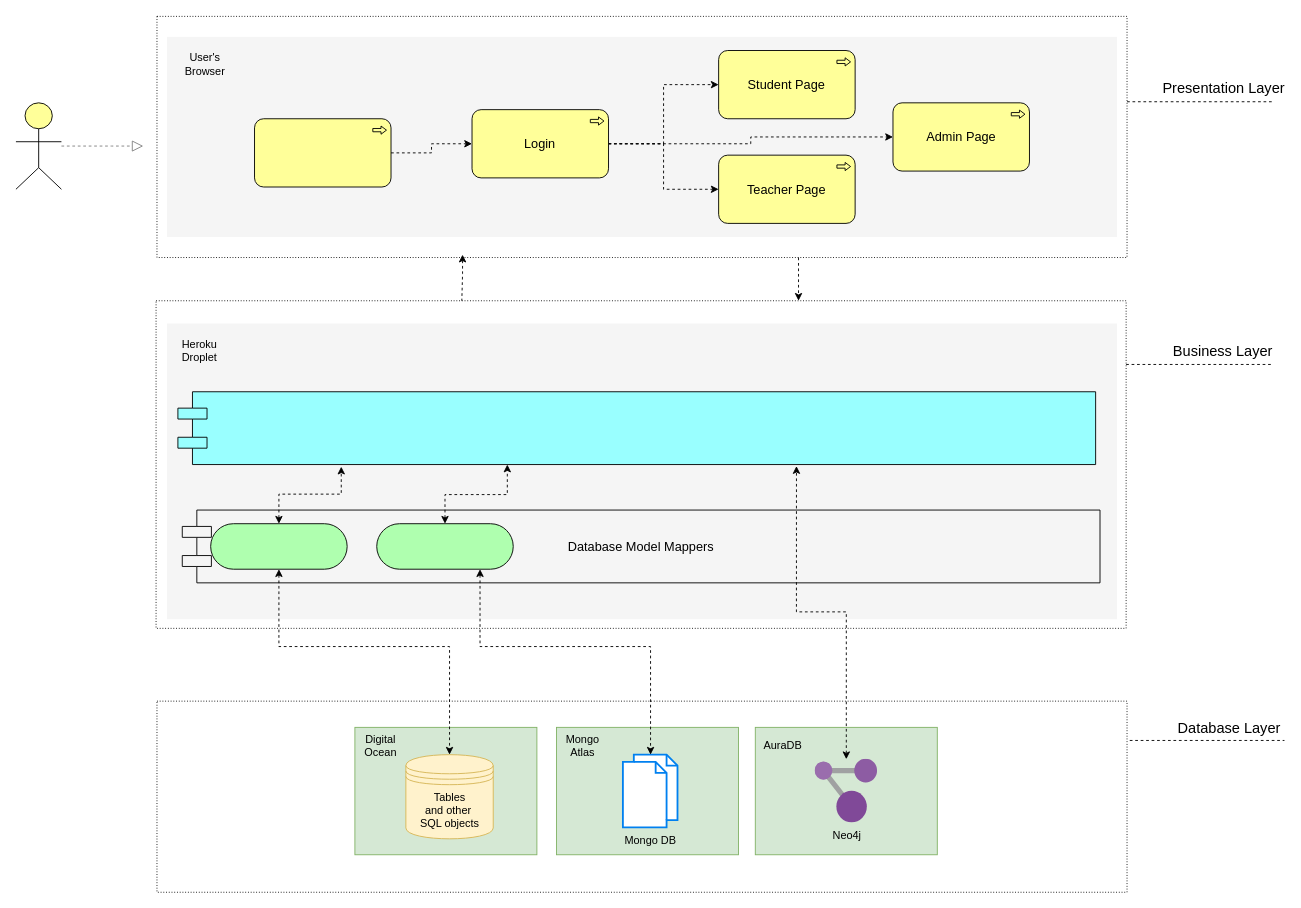
Some shapes in this 1301 by 908 pixel diagram are drawn without their labels. Here are the shapes that lost their labels. From the top down, the centre of each, then its label:
(x=322, y=152): Registration
(x=636, y=428): Business Logic
(x=278, y=546): Sequelize
(x=444, y=546): Mongoose
